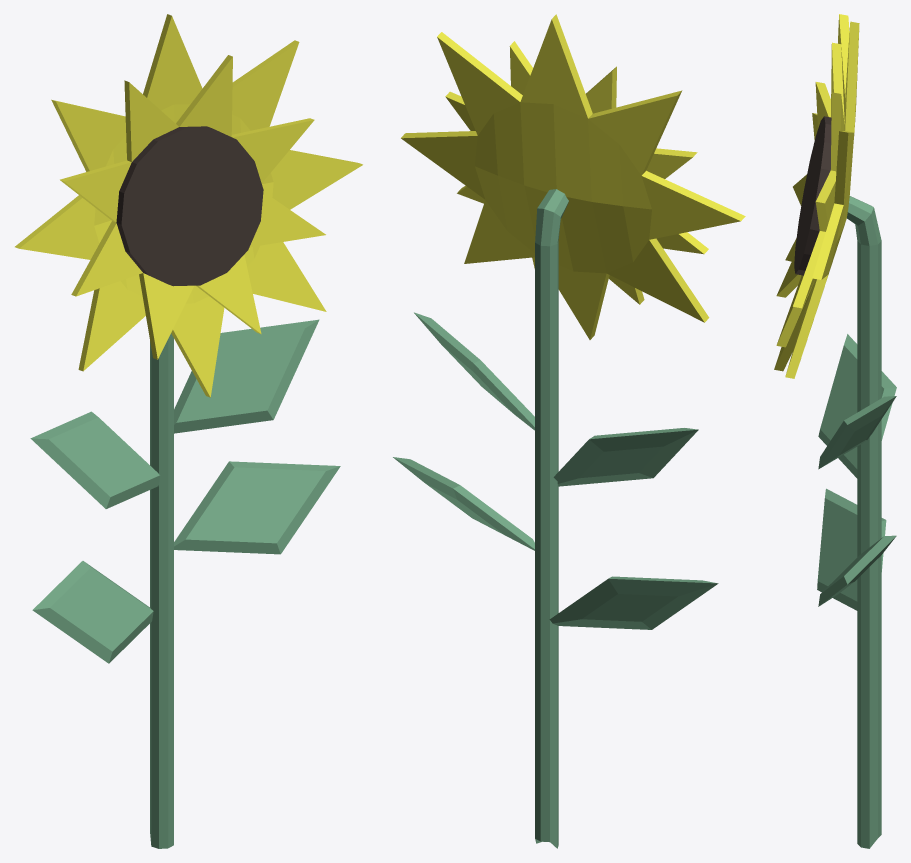
The model's file is Flower1.fbx.
The picture shows the model from 3 angles, left to right: view 1: azimuth 30°, elevation 25°; view 2: azimuth 150°, elevation 25°; view 3: azimuth 270°, elevation 25°; orthographic projection.
Visible parts, largest first — view 1: Flower1; view 2: Flower1; view 3: Flower1.
Boxes of the visible parts, left/top/right/bottom form: Flower1: left=15, top=14, right=362, bottom=848; Flower1: left=393, top=14, right=745, bottom=848; Flower1: left=774, top=14, right=896, bottom=848.
Bounding box in the file's own units: 23.69 × 54.88 × 7.44.
